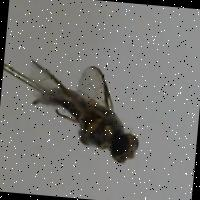Oriental-fruit-fly: (22, 46, 150, 168)
